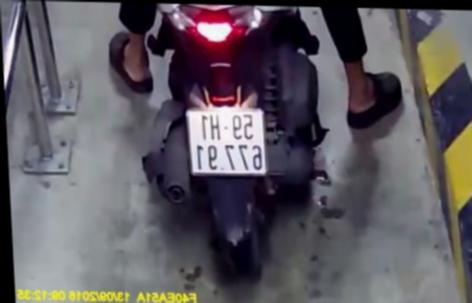License_Plate: (177, 102, 275, 187)
